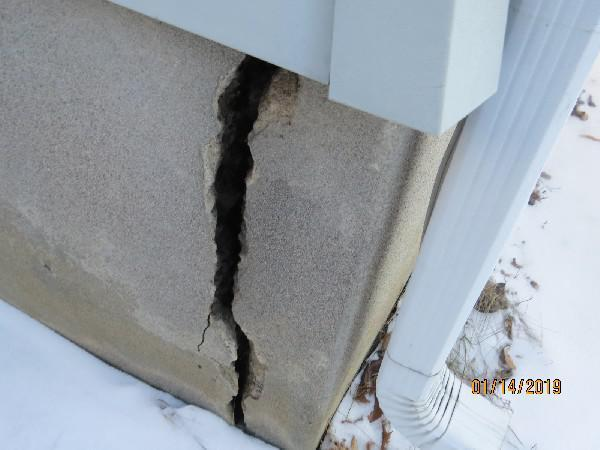damage: (198, 54, 300, 434)
